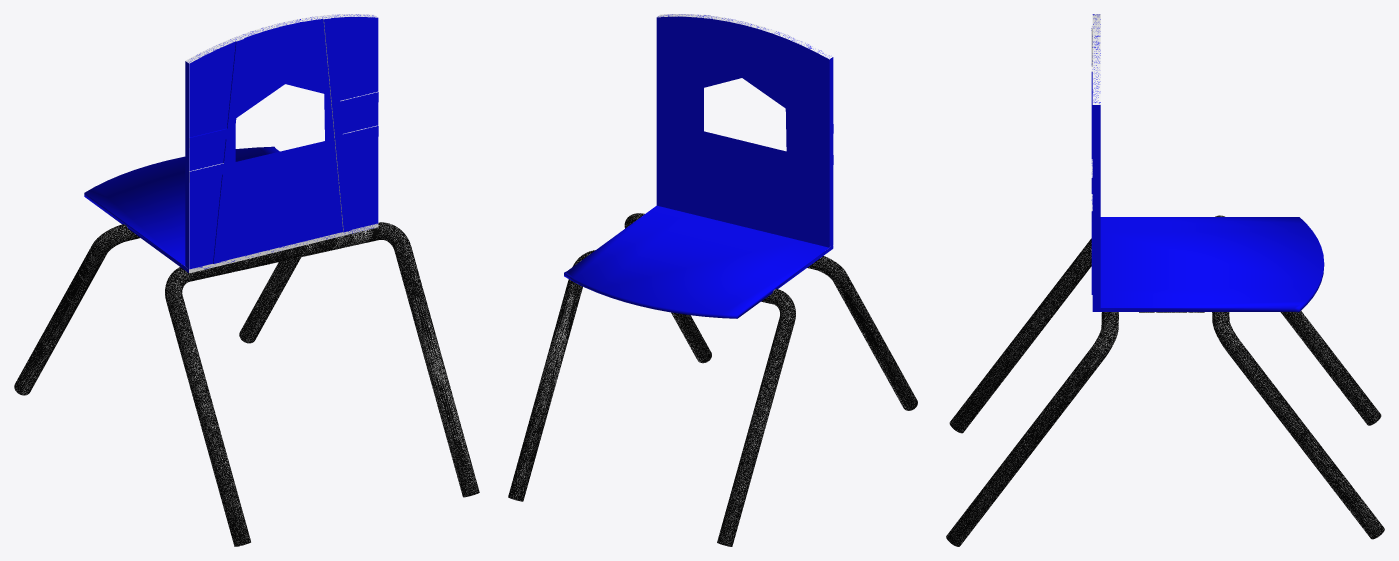
3 views of the same model, side by side, from view 1: azimuth 30°, elevation 25°; view 2: azimuth 150°, elevation 25°; view 3: azimuth 270°, elevation 25° (orthographic). The views are drawn at different scales.
Visible parts, largest first — view 1: mesh3_mesh3-geometry, mesh1_mesh1-geometry, mesh2_mesh2-geometry; view 2: mesh3_mesh3-geometry, mesh2_mesh2-geometry, mesh1_mesh1-geometry; view 3: mesh3_mesh3-geometry, mesh1_mesh1-geometry, mesh2_mesh2-geometry.
Part boxes in pixels (bbox=[...]): mesh3_mesh3-geometry: bbox=[84, 14, 378, 273]; mesh1_mesh1-geometry: bbox=[165, 222, 479, 546]; mesh2_mesh2-geometry: bbox=[14, 224, 300, 395]; mesh3_mesh3-geometry: bbox=[564, 14, 833, 318]; mesh2_mesh2-geometry: bbox=[508, 250, 795, 546]; mesh1_mesh1-geometry: bbox=[624, 213, 917, 410]; mesh3_mesh3-geometry: bbox=[1091, 14, 1324, 312]; mesh1_mesh1-geometry: bbox=[946, 238, 1118, 546]; mesh2_mesh2-geometry: bbox=[1212, 215, 1384, 539].
Size of the model in its own units: 0.4041 by 0.6817 by 0.6099.
